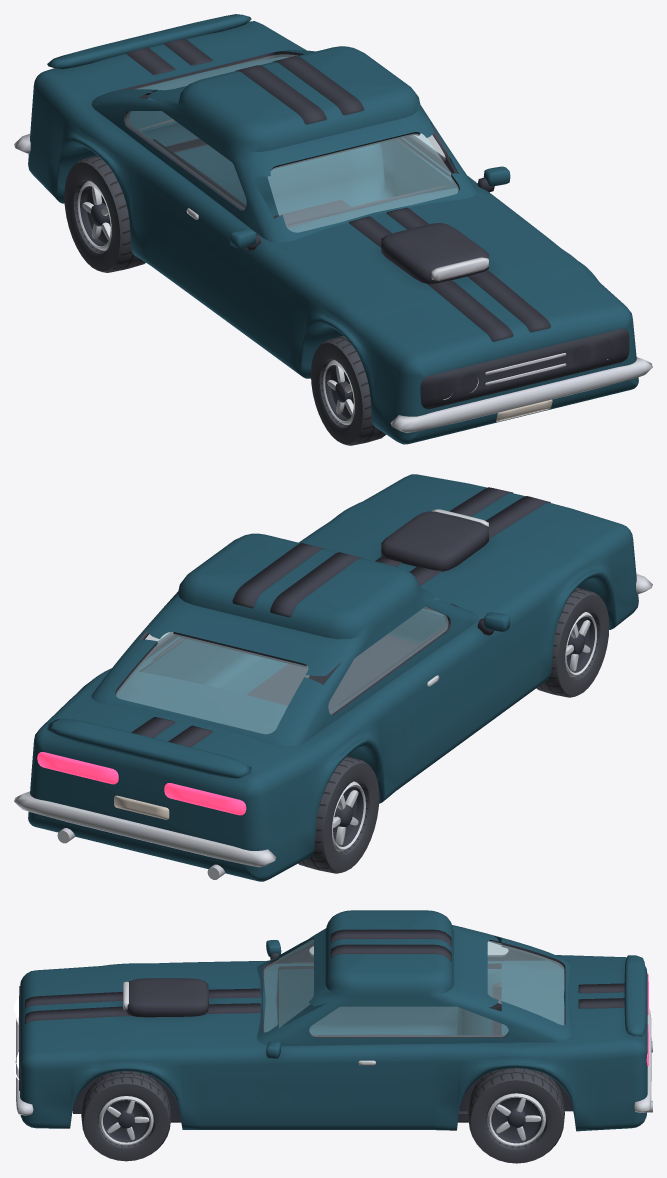
File: statoz-fastback.glb
3 renders of one model, top to bottom at view 1: azimuth 30°, elevation 25°; view 2: azimuth 150°, elevation 25°; view 3: azimuth 270°, elevation 25°, orthographic. The views are drawn at different scales.
Visible parts, largest first — view 1: hero-body, hero-roof, muscle-car_windows, hero-greenhouse, muscle-car_wheel_rr, muscle-car_wheel_fr; view 2: hero-body, hero-roof, muscle-car_windows, hero-greenhouse, muscle-car_wheel_rr, muscle-car_wheel_fr, hero-taillamps; view 3: hero-body, hero-roof, muscle-car_windows, hero-greenhouse, muscle-car_wheel_rl, muscle-car_wheel_fl.
Part boxes in pixels (x1,y1,x2,y2): hero-body: [14, 14, 652, 444]; hero-roof: [147, 46, 434, 176]; muscle-car_windows: [127, 54, 458, 232]; hero-greenhouse: [91, 50, 477, 242]; muscle-car_wheel_rr: [64, 155, 145, 272]; muscle-car_wheel_fr: [311, 335, 385, 445]; hero-body: [14, 474, 652, 881]; hero-roof: [146, 533, 435, 675]; muscle-car_windows: [116, 598, 448, 733]; hero-greenhouse: [91, 591, 477, 746]; muscle-car_wheel_rr: [298, 756, 379, 873]; muscle-car_wheel_fr: [536, 587, 609, 697]; hero-taillamps: [37, 752, 246, 815]; hero-body: [15, 940, 652, 1131]; hero-roof: [309, 910, 498, 1008]; muscle-car_windows: [264, 939, 564, 1036]; hero-greenhouse: [257, 932, 571, 1045]; muscle-car_wheel_rl: [468, 1068, 564, 1163]; muscle-car_wheel_fl: [81, 1071, 171, 1161].
Size of the model in its own units: 1.92 by 1.39 by 4.68.
8 materials, 2 textured.
